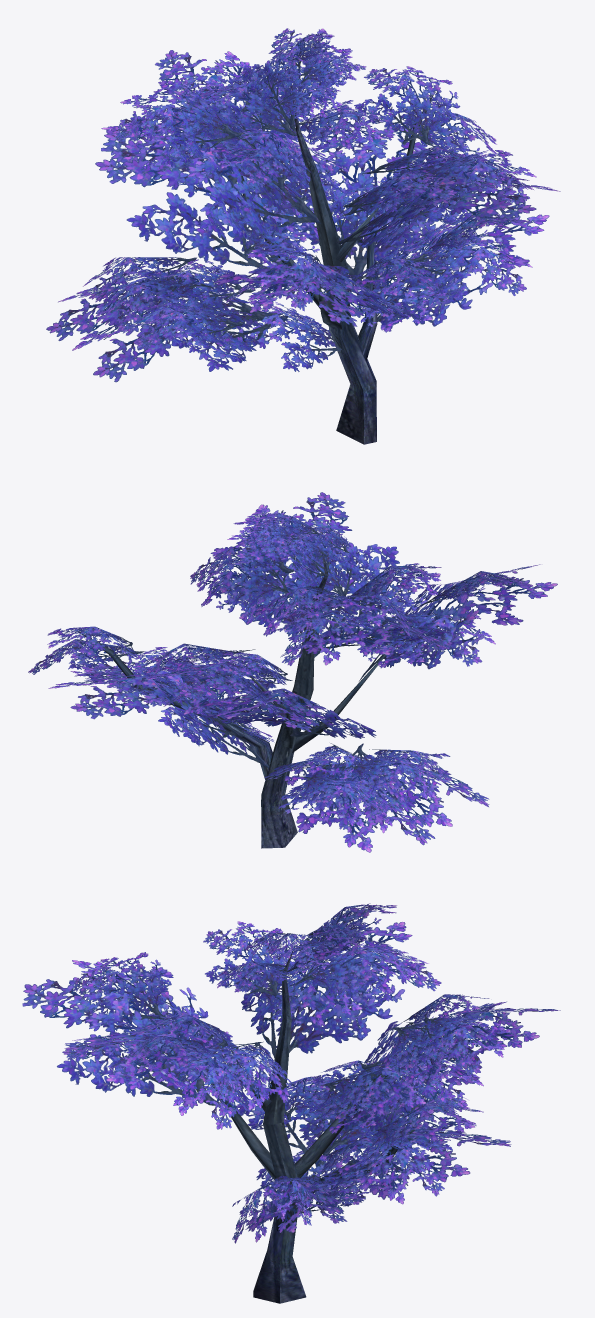
File: M3_P_shu002.FBX
3 renders of one model, top to bottom at view 1: azimuth 30°, elevation 25°; view 2: azimuth 150°, elevation 25°; view 3: azimuth 270°, elevation 25°, orthographic. The views are drawn at different scales.
Parts seen in each view (by area): view 1: M3_P_shu002; view 2: M3_P_shu002; view 3: M3_P_shu002.
Boxes of the visible parts, bbox=[...] form: M3_P_shu002: bbox=[46, 28, 560, 444]; M3_P_shu002: bbox=[28, 492, 557, 852]; M3_P_shu002: bbox=[22, 903, 560, 1303].
Bounding box in the file's own units: 954 × 687 × 982.
